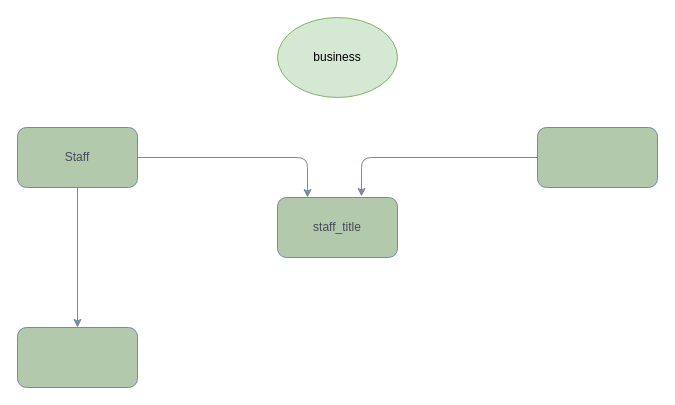
The diagram is 675 pixels wide and 405 high, and some of its shapes have lost their labels. Each missing label, with the centre of its shape:
"Office" belongs at [77,357].
"Title" belongs at [597,157].
